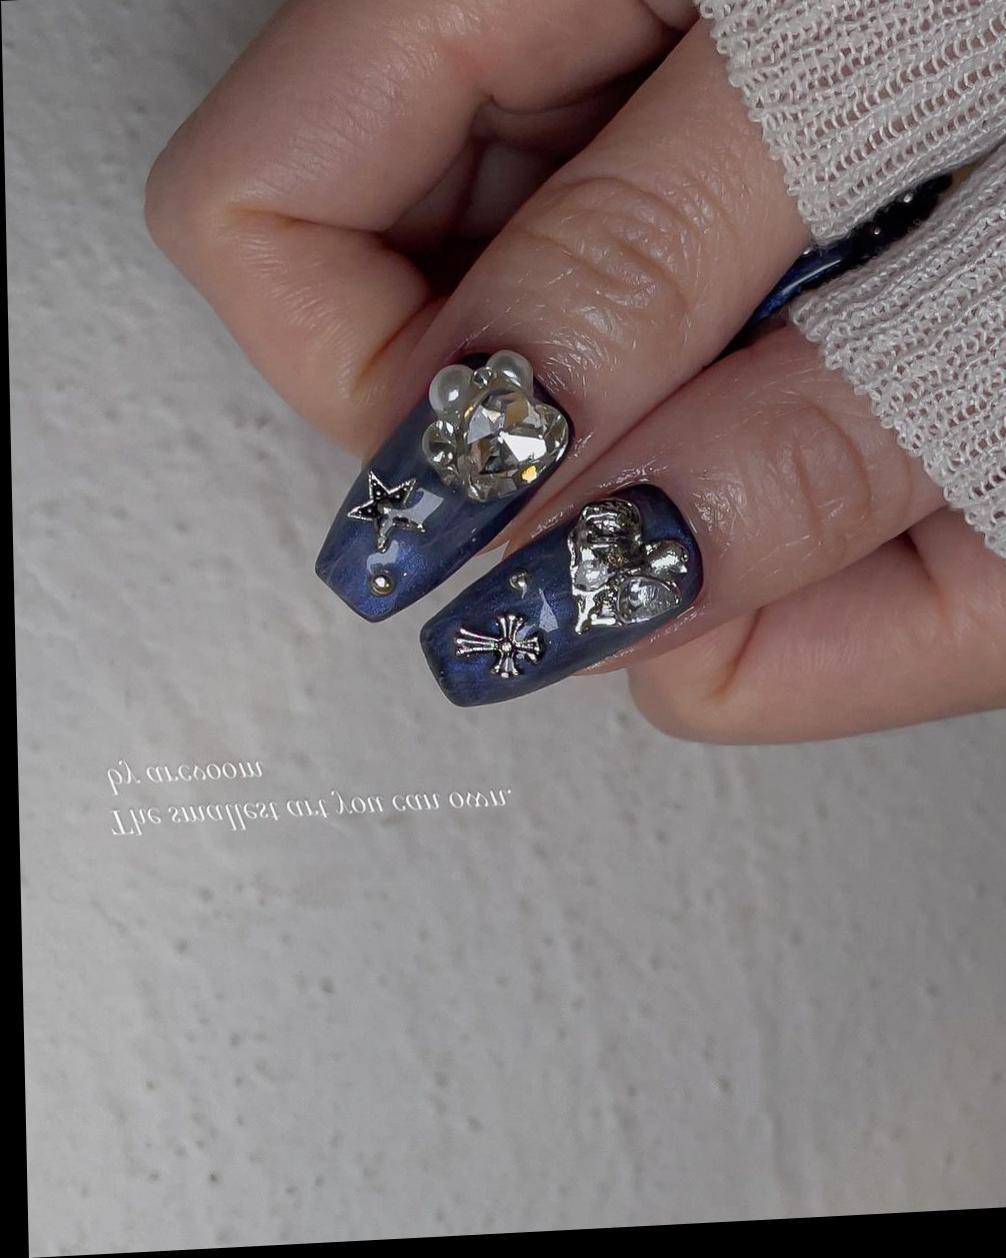nail: (307, 343, 575, 628), (414, 479, 705, 712), (741, 168, 957, 326)
